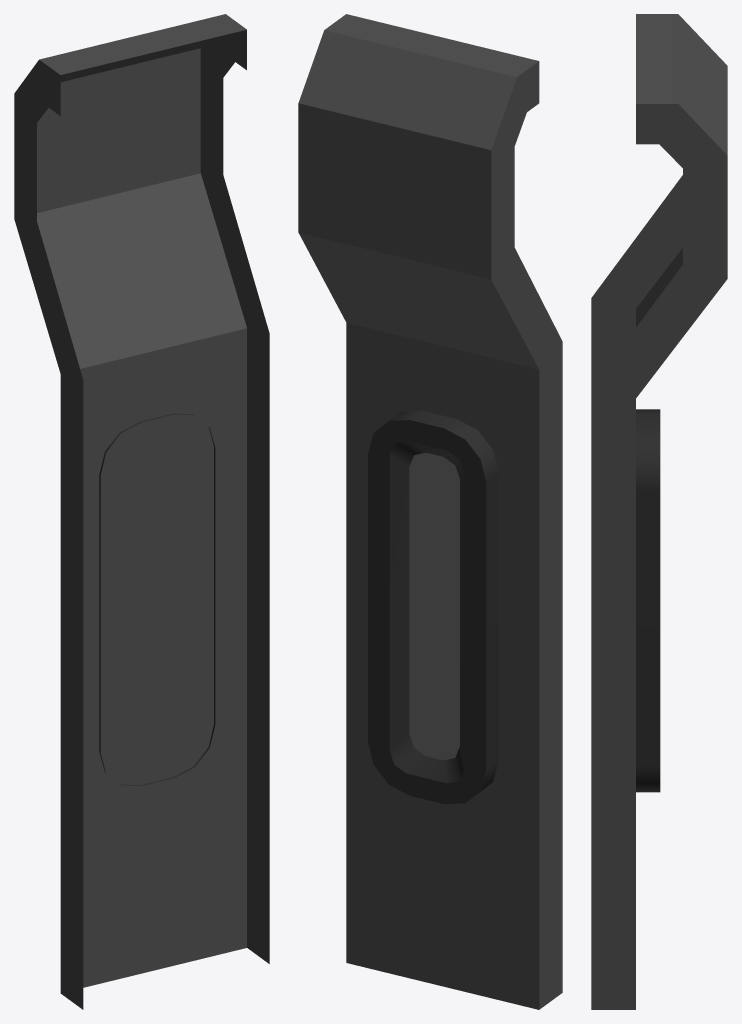
Rendered from SM_wall_front_029.fbx.
3 views of the same model, side by side, from view 1: azimuth 30°, elevation 25°; view 2: azimuth 150°, elevation 25°; view 3: azimuth 270°, elevation 25° (orthographic). The views are drawn at different scales.
Visible parts, largest first — view 1: SM_wall_front_029; view 2: SM_wall_front_029; view 3: SM_wall_front_029.
Boxes of the visible parts, box(x1,y1,x2,y2) form: SM_wall_front_029: box(14, 14, 269, 1009); SM_wall_front_029: box(298, 14, 562, 1009); SM_wall_front_029: box(591, 14, 727, 1009).
Bounding box in the file's own units: 48.76 × 229 × 31.21.
Materials: 2 (2 with a texture image).
